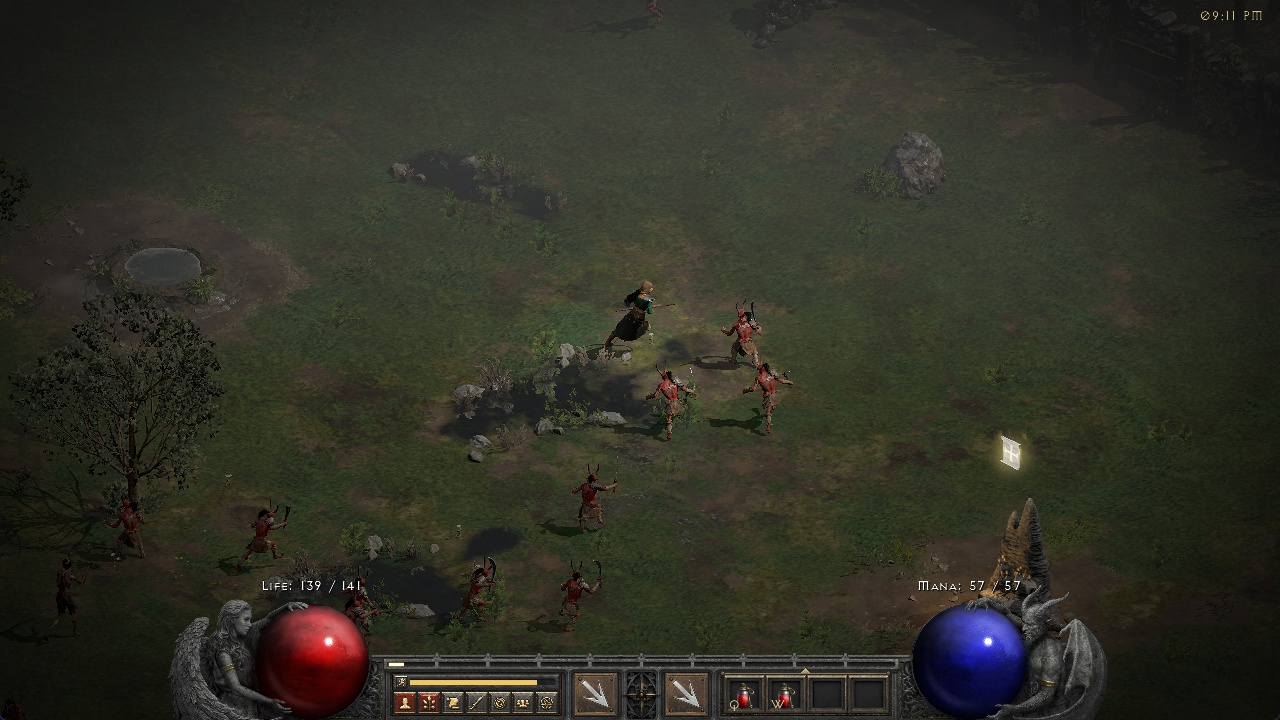fallen: (640, 360, 708, 436), (543, 556, 603, 627), (738, 360, 800, 428), (563, 463, 622, 534), (235, 506, 293, 571), (458, 552, 503, 622), (720, 295, 768, 357), (107, 492, 146, 562), (348, 571, 376, 612)
